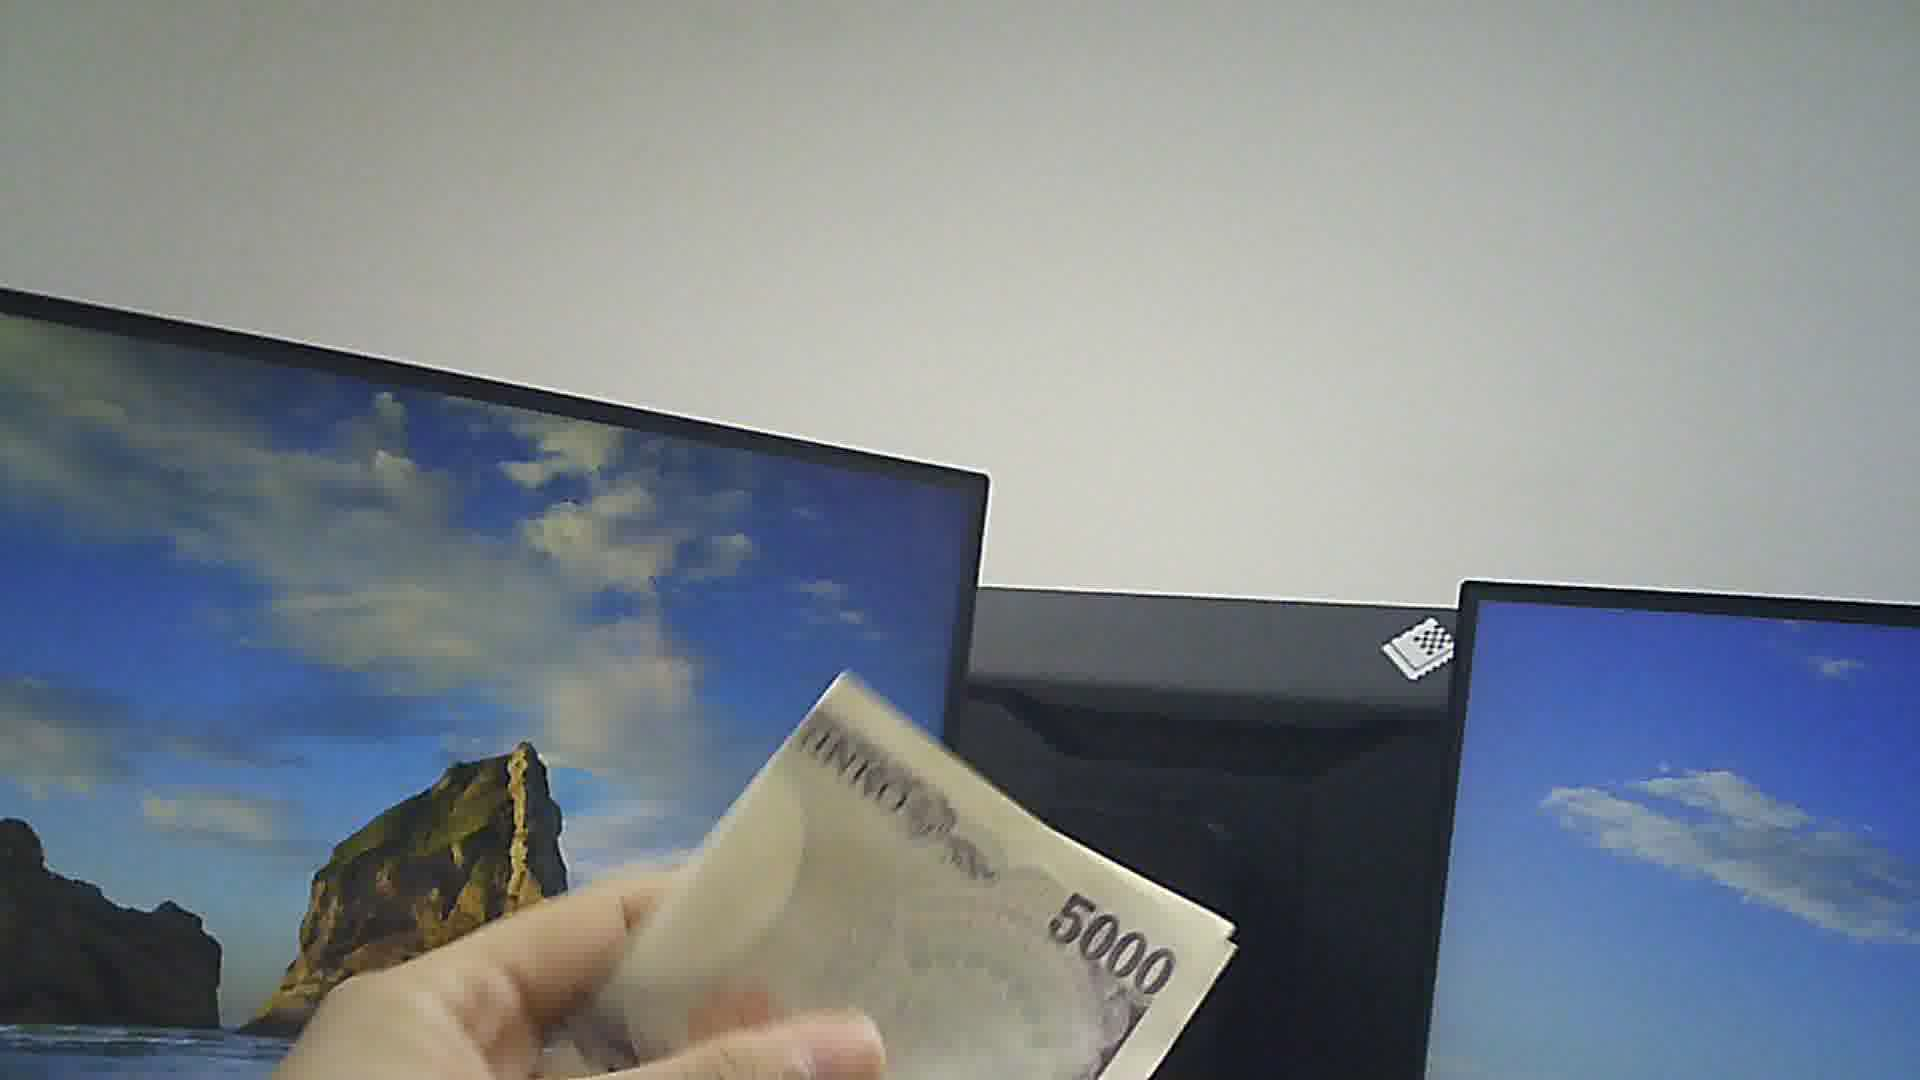5,000 Yen: (583, 659, 1228, 1079)
